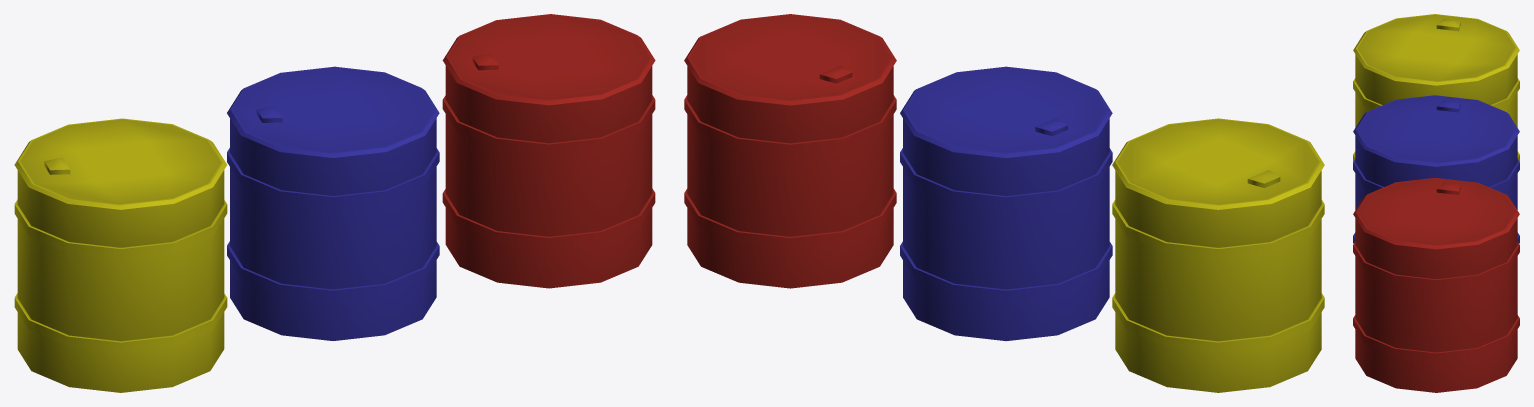
Rendered from Laboratorio.fbx_BarrilMetal.fbx.
3 views of the same model, side by side, from view 1: azimuth 30°, elevation 25°; view 2: azimuth 150°, elevation 25°; view 3: azimuth 270°, elevation 25° (orthographic). The views are drawn at different scales.
Visible parts, largest first — view 1: BarrilMetalAmarelo, BarrilMetalVermelho, BarrilMetalAzul; view 2: BarrilMetalAmarelo, BarrilMetalVermelho, BarrilMetalAzul; view 3: BarrilMetalVermelho, BarrilMetalAzul, BarrilMetalAmarelo.
Part boxes in pixels (<box>): BarrilMetalAmarelo: <box>14,118,227,392</box>; BarrilMetalVermelho: <box>442,14,655,288</box>; BarrilMetalAzul: <box>227,66,439,340</box>; BarrilMetalAmarelo: <box>1112,118,1324,392</box>; BarrilMetalVermelho: <box>684,14,896,288</box>; BarrilMetalAzul: <box>900,66,1112,341</box>; BarrilMetalVermelho: <box>1353,178,1519,392</box>; BarrilMetalAzul: <box>1353,95,1519,243</box>; BarrilMetalAmarelo: <box>1353,14,1519,161</box>.
Bounding box in the file's own units: 178 × 54.02 × 53.67.
